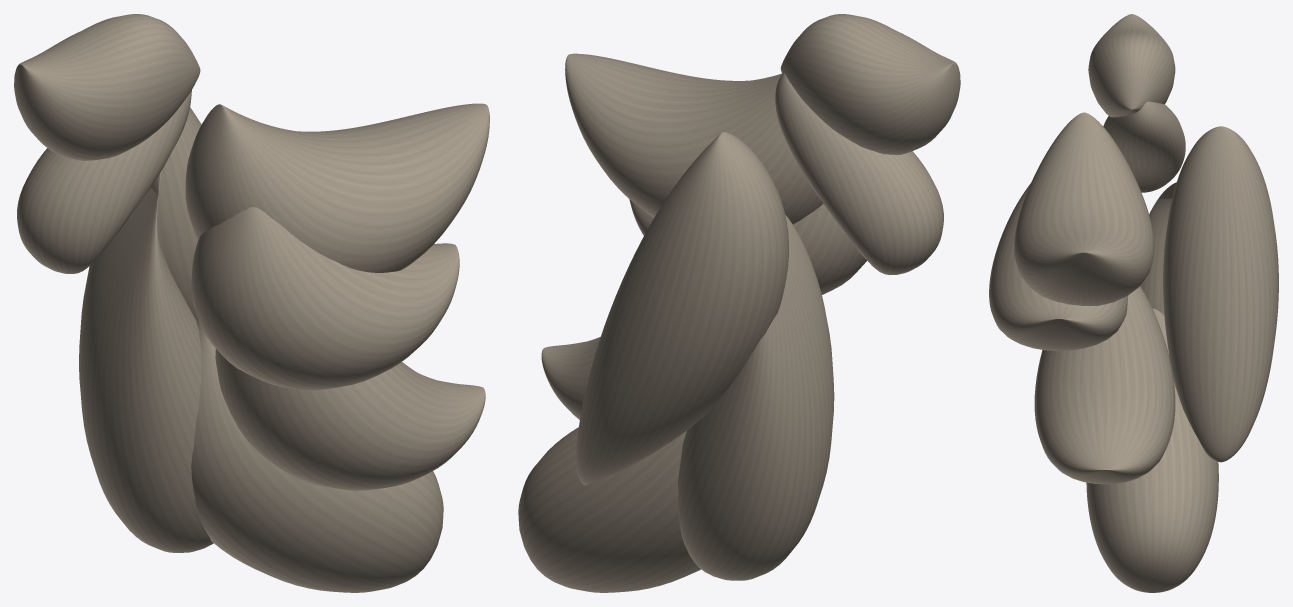
The model's file is beard-shape-study.fbx.
The picture shows the model from 3 angles, left to right: view 1: azimuth 30°, elevation 25°; view 2: azimuth 150°, elevation 25°; view 3: azimuth 270°, elevation 25°; orthographic projection. The views are drawn at different scales.
Visible parts, largest first — view 1: UpperSweep, LongOuter, MiddleSweep, LongBottom, LowerSweep, ShortOut, ShortDown, RootPatch; view 2: RootPatch, LongOuter, UpperSweep, LongBottom, ShortOut, ShortDown, MiddleSweep, LowerSweep; view 3: RootPatch, UpperSweep, LowerSweep, LongBottom, MiddleSweep, ShortOut, ShortDown, LongOuter.
Boxes of the visible parts, x1,y1,x2,y2 form: UpperSweep: (185,103,489,272); LongOuter: (79,171,213,552); MiddleSweep: (191,207,459,390); LongBottom: (191,321,443,592); LowerSweep: (215,348,485,490); ShortOut: (14,14,200,160); ShortDown: (17,90,191,273); RootPatch: (116,107,201,321); RootPatch: (576,132,788,485); LongOuter: (678,214,834,580); UpperSweep: (565,53,823,224); LongBottom: (518,427,700,592); ShortOut: (780,14,960,154); ShortDown: (775,73,943,274); MiddleSweep: (629,199,867,294); LowerSweep: (541,337,600,419); RootPatch: (1163,126,1278,462); UpperSweep: (1014,112,1154,305); LowerSweep: (1034,286,1175,484); LongBottom: (1086,308,1218,592); MiddleSweep: (989,183,1127,351); ShortOut: (1088,14,1175,117); ShortDown: (1103,101,1185,192); LongOuter: (1140,182,1176,315).
Bounding box in the file's own units: 241 × 330 × 189.
1 material, 1 textured.
